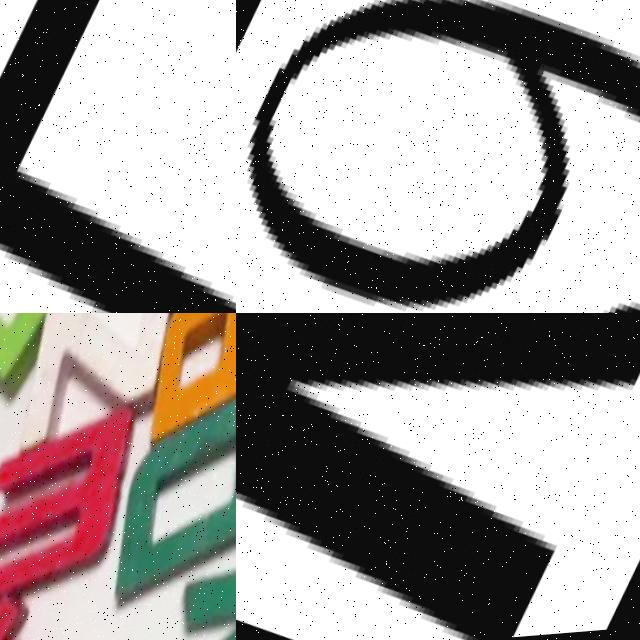9: (236, 0, 640, 313)
D: (90, 353, 236, 640)
F: (0, 313, 140, 415)
K: (161, 435, 236, 640)
N: (236, 313, 640, 640)
R: (129, 313, 236, 471)
T: (0, 0, 236, 313)
W: (0, 364, 165, 640)
Z: (0, 313, 220, 486)
